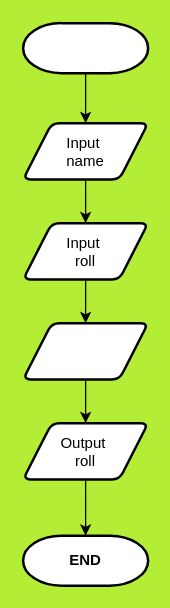
The diagram is 170 pixels wide and 608 high, and some of its shapes have lost their labels. The shapes that lost their labels are listed below. From the top down, each one's box as (x1, y1, x2, y2) in pixels, then its label:
(21, 21, 149, 74): START
(21, 321, 149, 380): Output name
